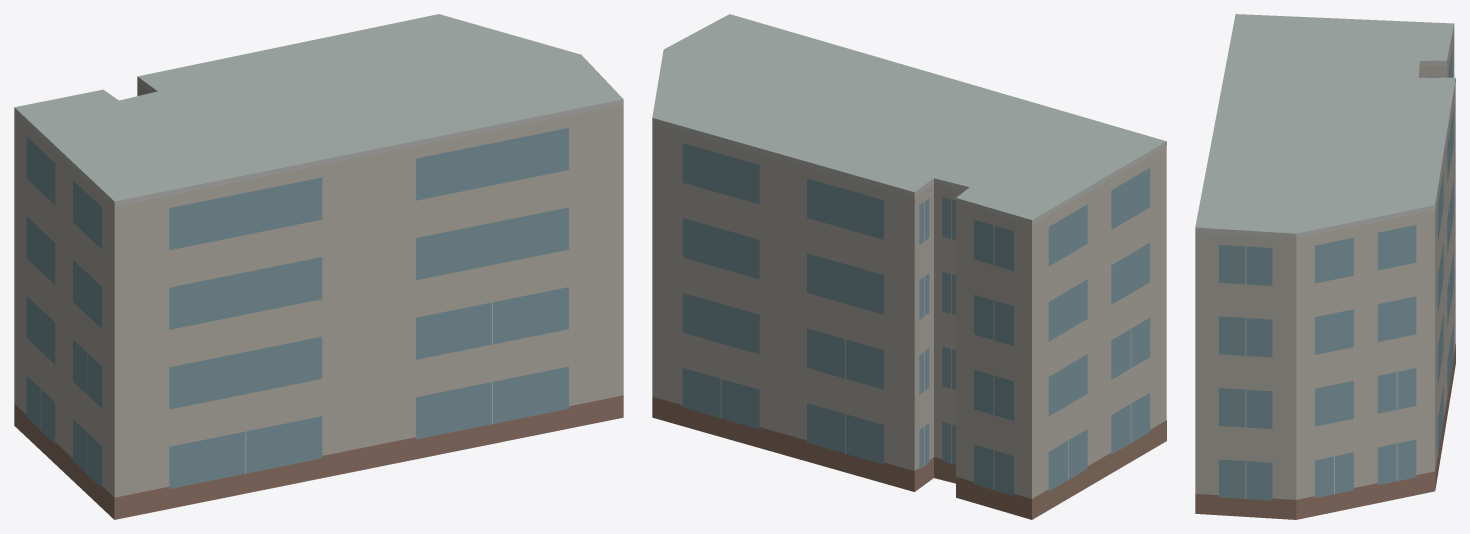
File: survey-upis-33022072.glb
3 views of the same model, side by side, from view 1: azimuth 30°, elevation 25°; view 2: azimuth 150°, elevation 25°; view 3: azimuth 270°, elevation 25° (orthographic). The views are drawn at different scales.
Visible parts, largest first — view 1: survey-upis-33022072.tmp; view 2: survey-upis-33022072.tmp; view 3: survey-upis-33022072.tmp.
Boxes of the visible parts, box(x1,y1,x2,y2) form: survey-upis-33022072.tmp: box(14, 14, 623, 519); survey-upis-33022072.tmp: box(652, 14, 1166, 519); survey-upis-33022072.tmp: box(1195, 14, 1455, 519).
Bounding box in the file's own units: 23.54 × 14.3 × 11.81.
